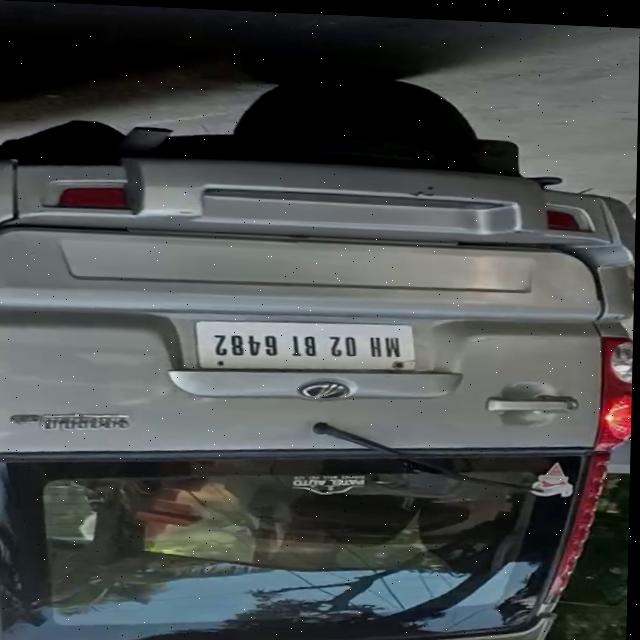plate: (193, 315, 421, 371)
